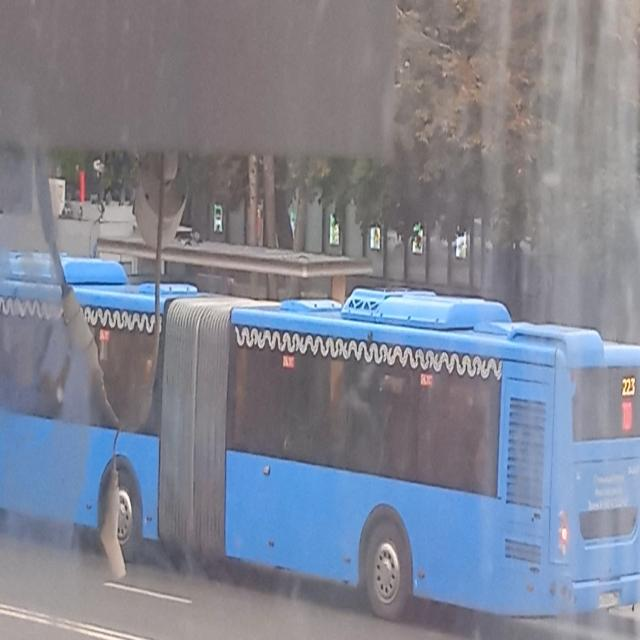bus: (0, 285, 638, 627)
